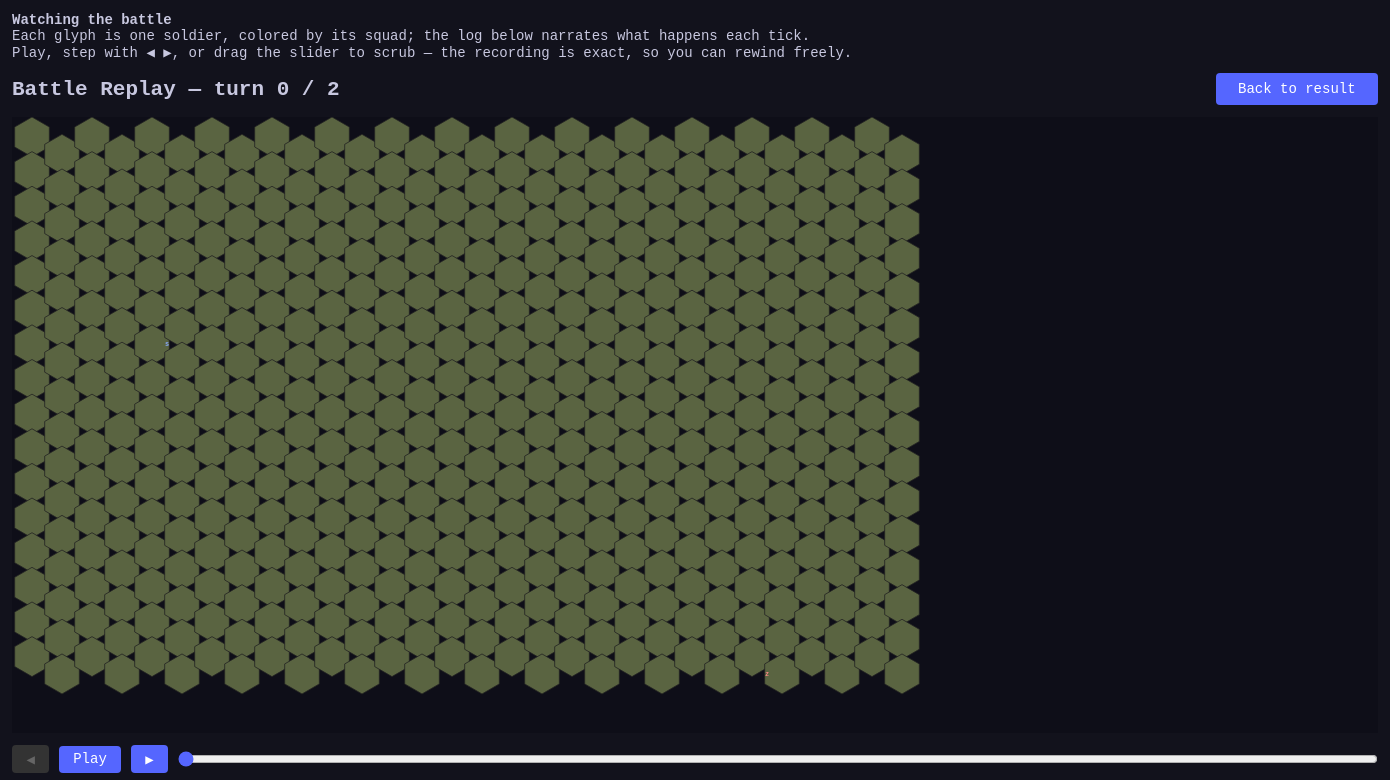
ReplayView › step buttons move one tick at a time
Expected: the text "Z" is shown, [765,670,769,678]
Step 1. Click the button with test id "replay-next" → (149, 759), box [131,745,168,773]
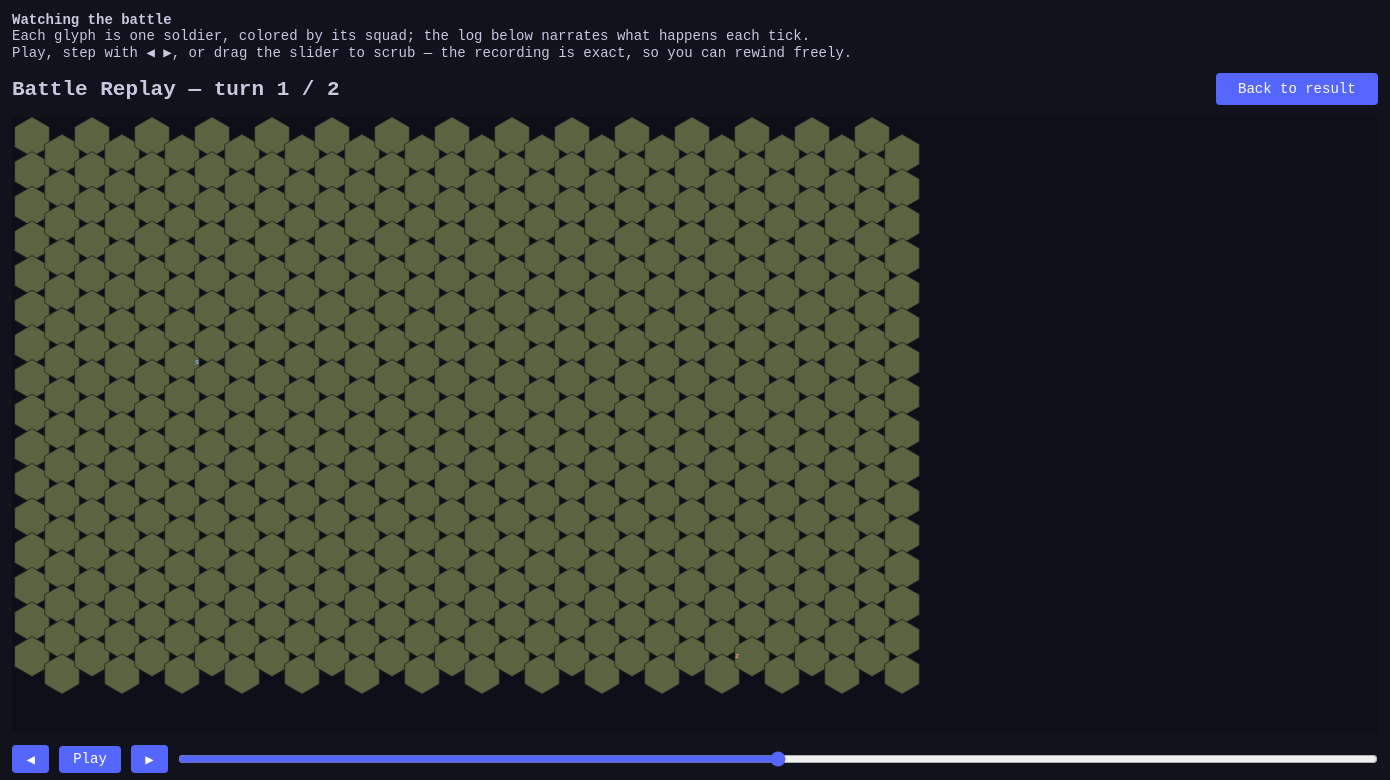
Expected: the slider with test id "replay-slider" holds "1", [178,751,1378,767]
Step 2. Click the button with test id "replay-prev" → (31, 759), box [12,745,49,773]
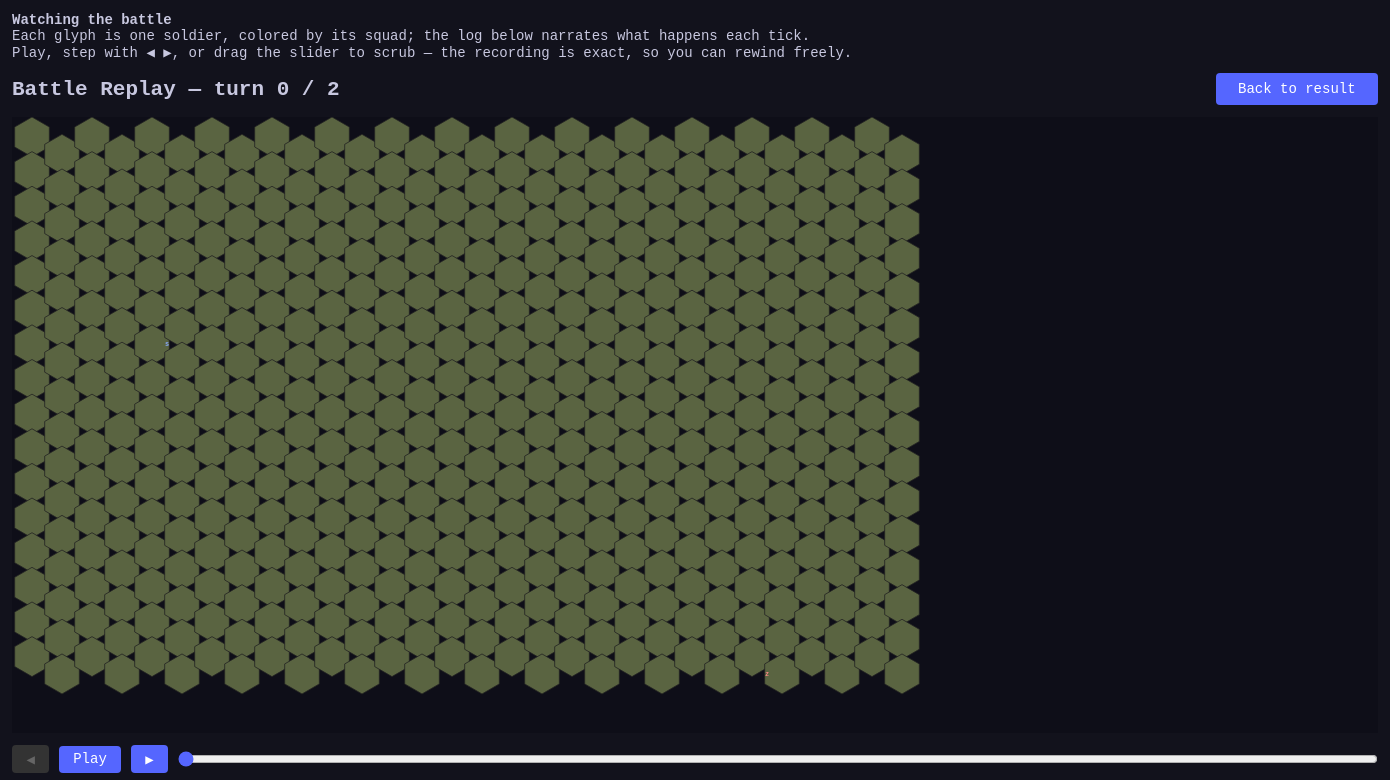
Expected: the slider with test id "replay-slider" holds "0", [178,751,1378,767]
